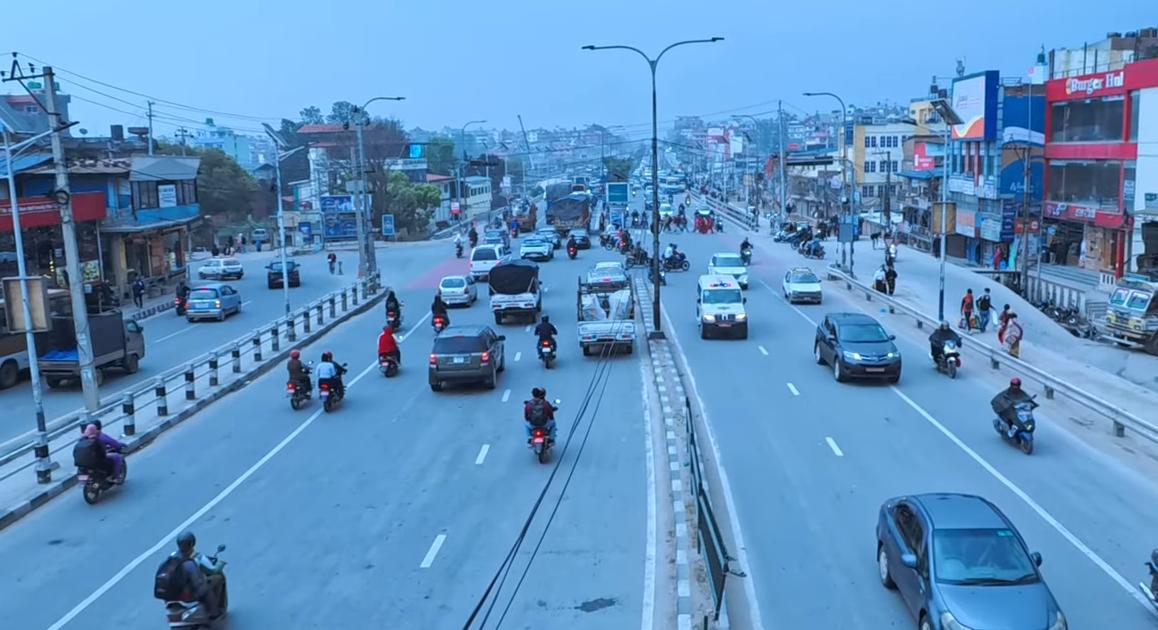ambulance: (691, 269, 757, 344)
car: (873, 489, 1072, 630), (807, 311, 904, 389), (426, 324, 511, 392)
scooter: (144, 544, 232, 630), (991, 385, 1044, 458)
taxi: (780, 264, 825, 307), (196, 255, 248, 281)
transport_vehicle: (570, 276, 641, 361), (488, 260, 546, 321)
truck: (1101, 269, 1158, 357)
